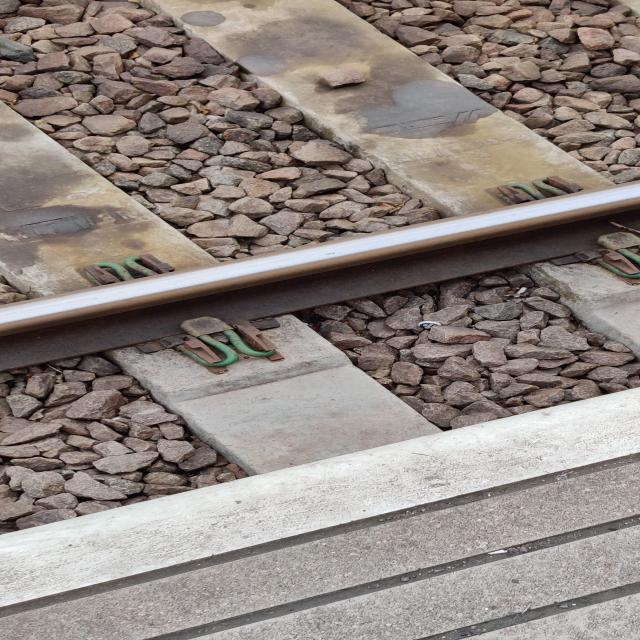litter: (417, 321, 441, 329), (506, 288, 527, 297)
